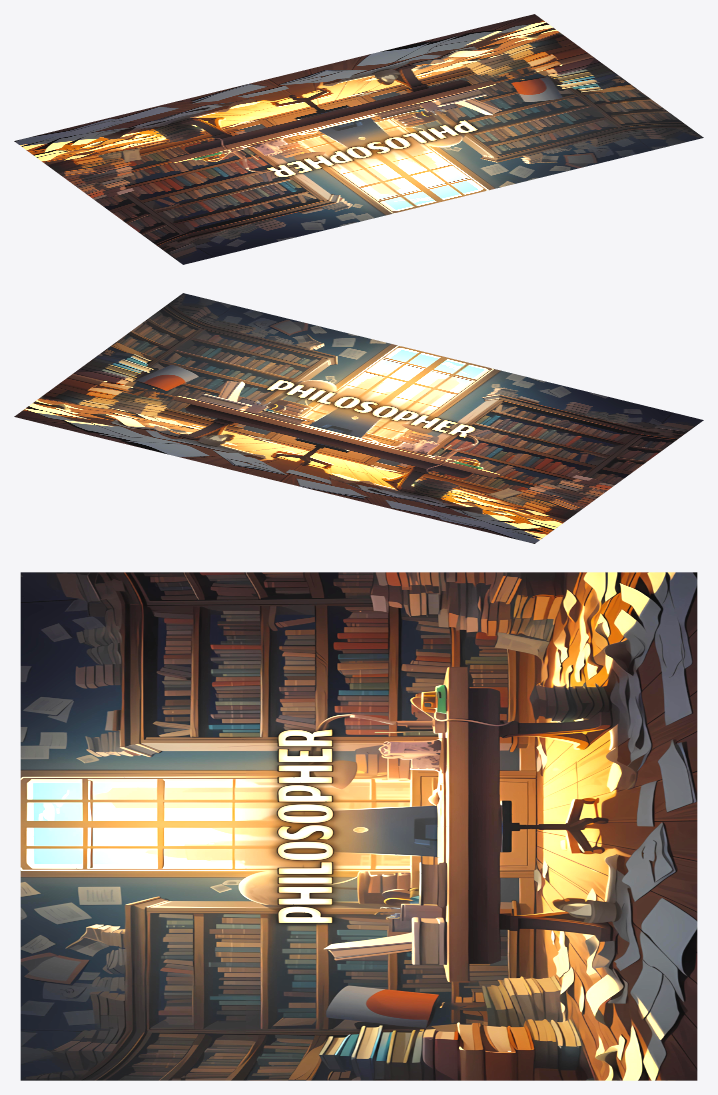
File: main_title_clean 1.glb
3 views of the same model, one above another, from view 1: azimuth 30°, elevation 25°; view 2: azimuth 150°, elevation 25°; view 3: azimuth 270°, elevation 25° (orthographic). The views are drawn at different scales.
Visible parts, largest first — view 1: 01; view 2: 01; view 3: 01.
Part boxes in pixels (left/top/right/bottom): 01: left=14, top=14, right=703, bottom=264; 01: left=14, top=293, right=703, bottom=543; 01: left=20, top=572, right=697, bottom=1080.
Size of the model in its own units: 38.4 by 0 by 21.6.
Materials: 16 (16 with a texture image).
